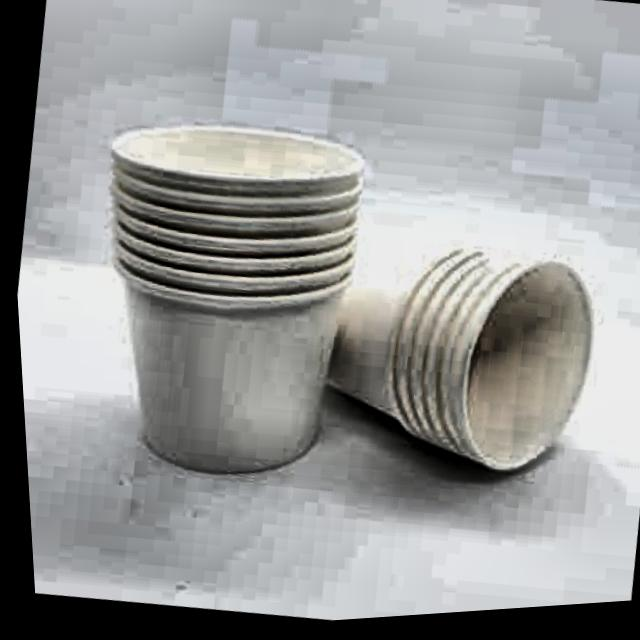Cup: (57, 96, 387, 505), (241, 199, 618, 511)
